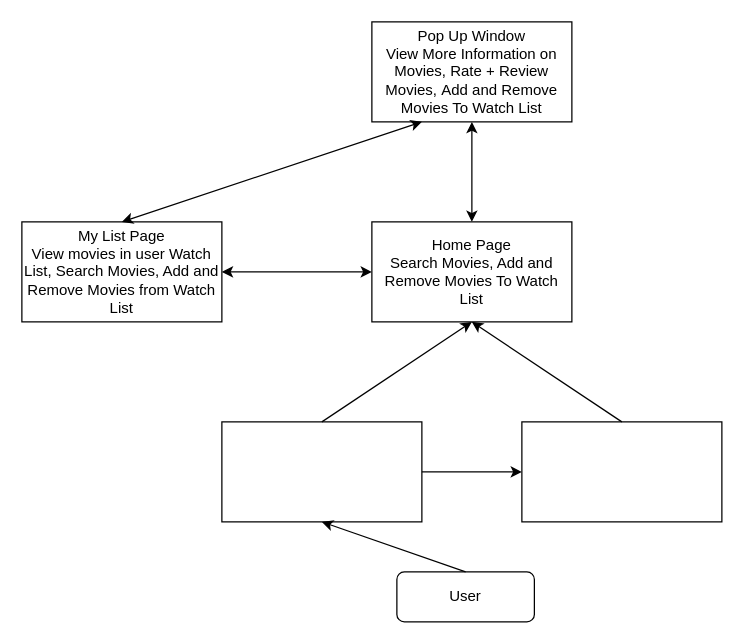
This 744x644 diagram has some shape labels left out. The centre of each missing label's shape, as x and y in pixels:
"Create Account Form User To Create Account and select user Avatar" belongs at (621,471).
"Log In Form User To Log In to Account or prompted to Create Account" belongs at (321,471).
